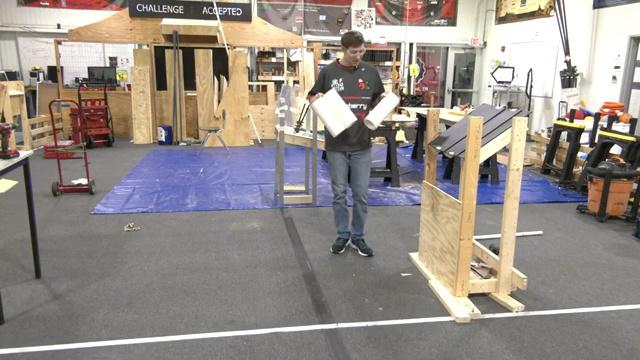CORAL: (323, 88, 358, 130), (311, 97, 345, 138), (363, 92, 399, 130)
